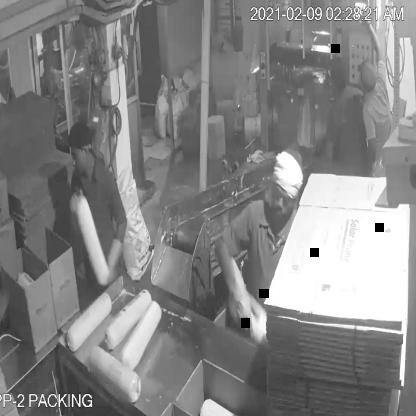glove: (223, 244, 262, 339), (99, 228, 126, 291), (65, 195, 82, 240)
no_glove: (363, 13, 386, 66), (0, 274, 16, 345)
